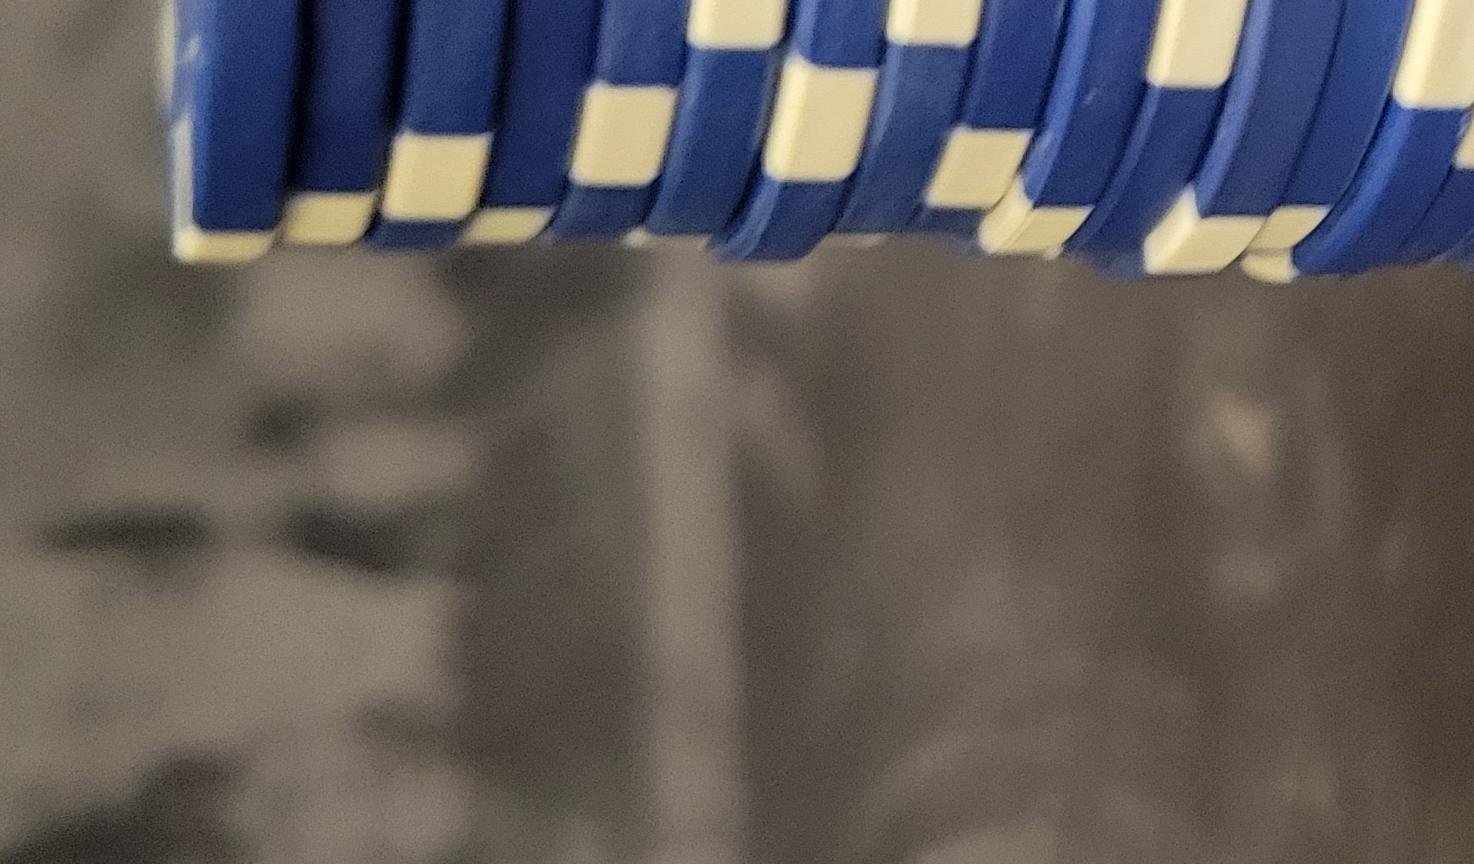Chip: (1, 479, 1027, 864)
